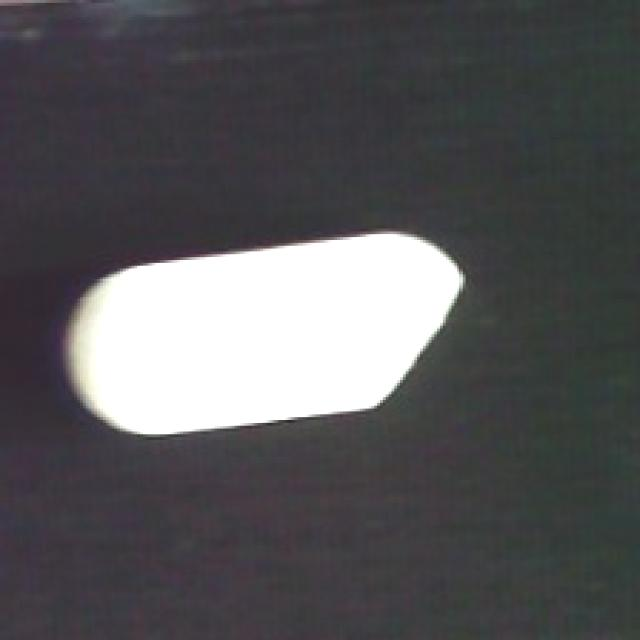defected: (57, 229, 466, 443)
